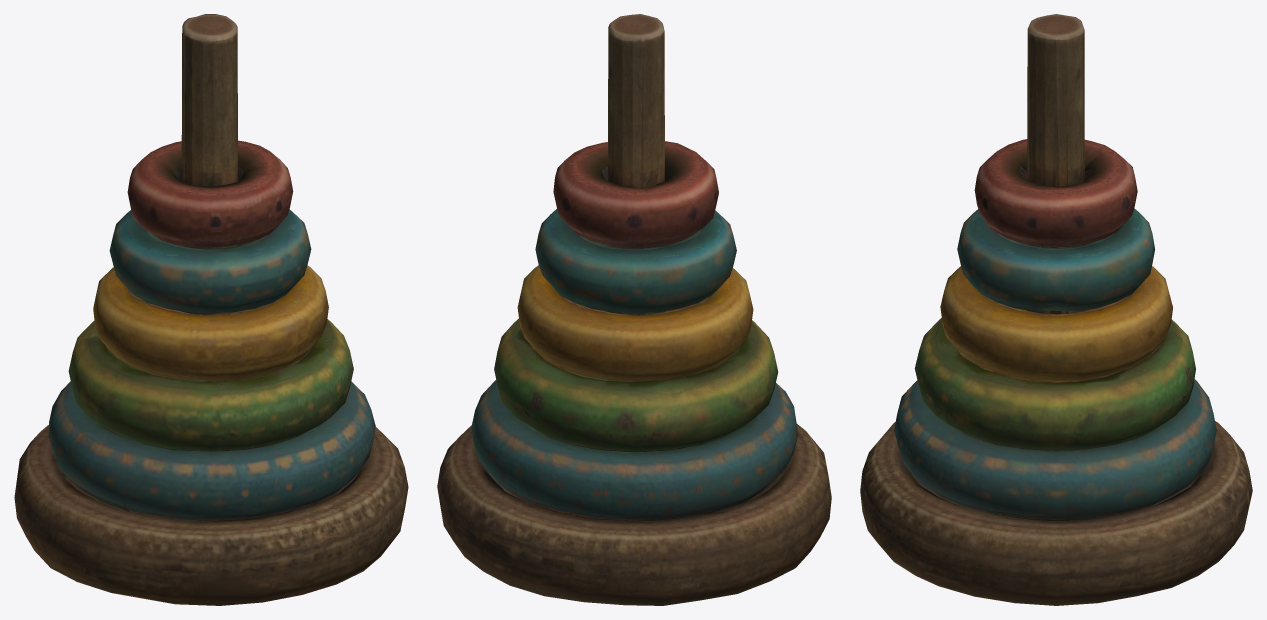
File: toy1.fbx
The picture shows the model from 3 angles, left to right: view 1: azimuth 30°, elevation 25°; view 2: azimuth 150°, elevation 25°; view 3: azimuth 270°, elevation 25°; orthographic projection.
Parts seen in each view (by area): view 1: mesh_node; view 2: mesh_node; view 3: mesh_node.
Boxes of the visible parts, box(x1,y1,x2,y2) form: mesh_node: box(14, 14, 408, 605); mesh_node: box(437, 14, 831, 605); mesh_node: box(860, 14, 1252, 605).
Size of the model in its own units: 70.51 by 100 by 70.31.
1 material, 1 textured.
